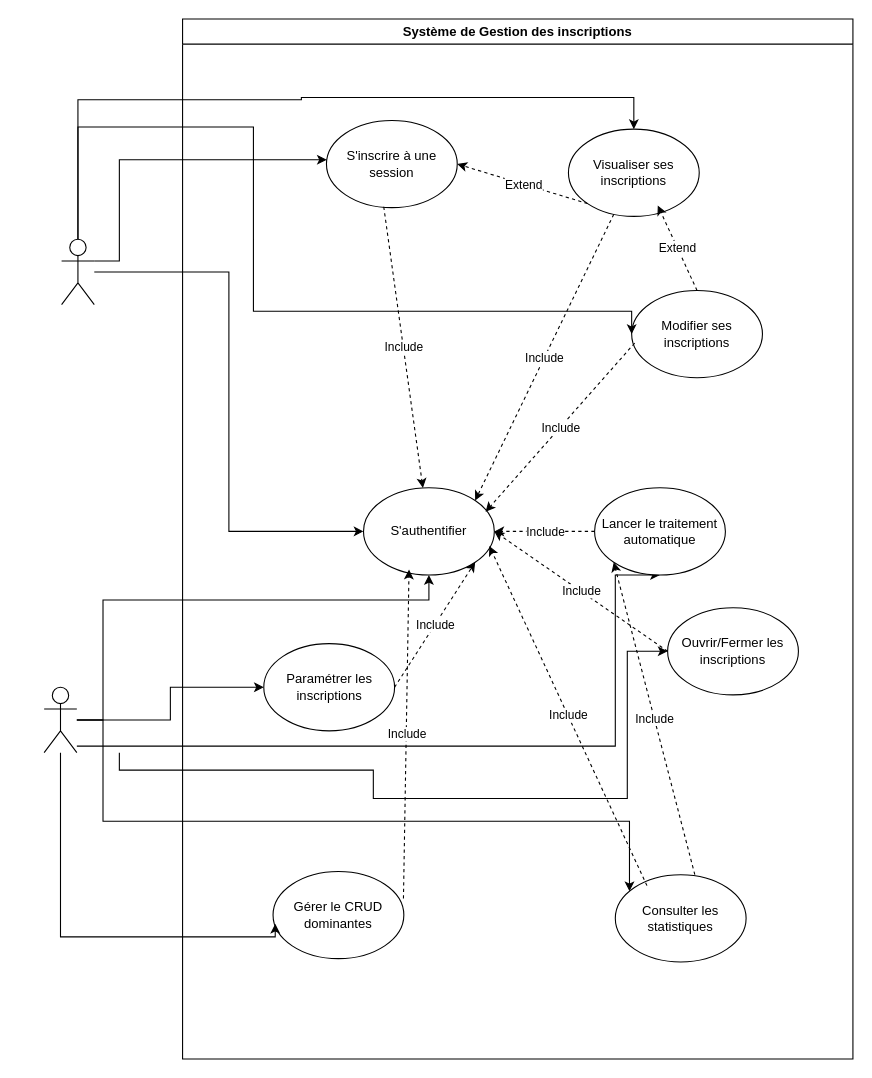
Some shapes in this 872 by 1078 pixel diagram are drawn without their labels. The centre of each missing label's shape, as x and y in pixels:
Administrateur: point 60,719
Étudiant: point 77,271
